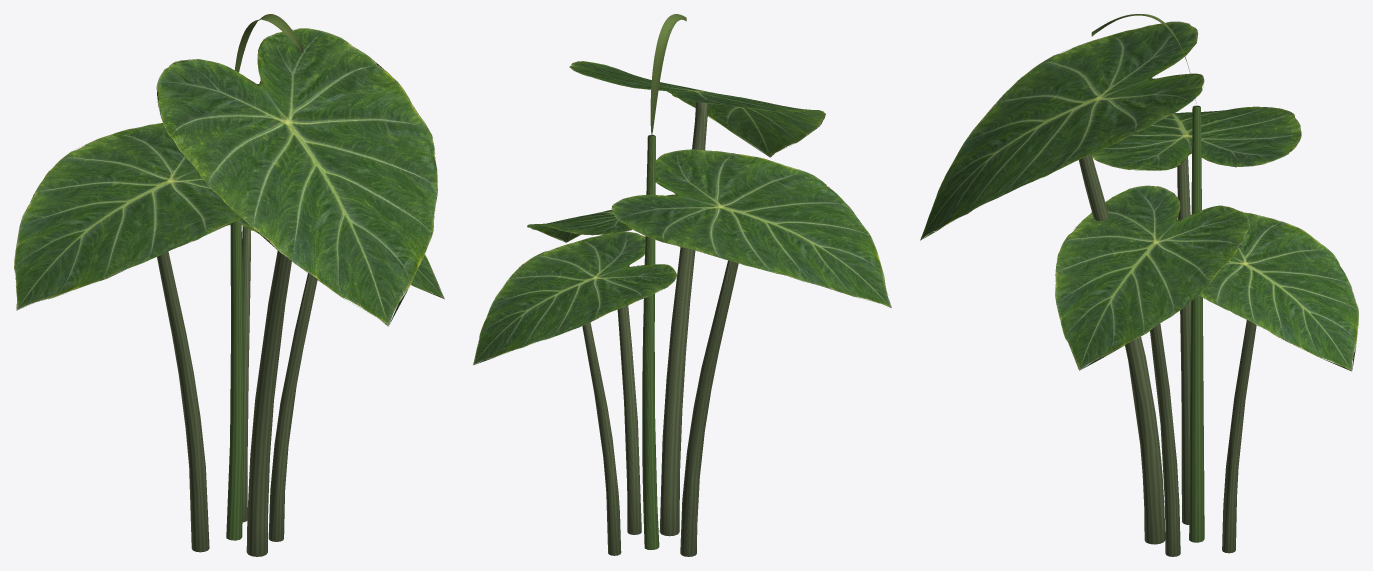
File: taro-2.glb
3 views of the same model, side by side, from view 1: azimuth 30°, elevation 25°; view 2: azimuth 150°, elevation 25°; view 3: azimuth 270°, elevation 25° (orthographic). The views are drawn at different scales.
Visible parts, largest first — view 1: leaf, petiole, new-leaf; view 2: leaf, petiole, leaf-back, new-leaf; view 3: leaf, petiole, leaf-edge.
Boxes of the visible parts, x1,y1,x2,y2 form: leaf: (14,28,444,326); petiole: (157,220,317,556); new-leaf: (235,14,303,72); leaf: (473,61,891,364); petiole: (582,102,738,556); leaf-back: (527,91,825,242); new-leaf: (650,14,686,135); leaf: (920,21,1358,371); petiole: (1079,105,1256,556); leaf-edge: (920,29,1356,371).
Bounding box in the file's own units: 0.4795 × 0.6325 × 0.4732.
5 materials, 4 textured.
